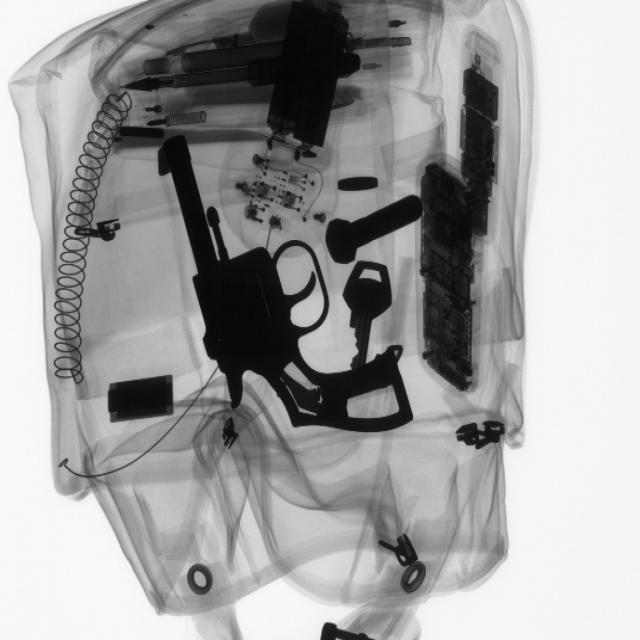GUN: (153, 138, 415, 434)
